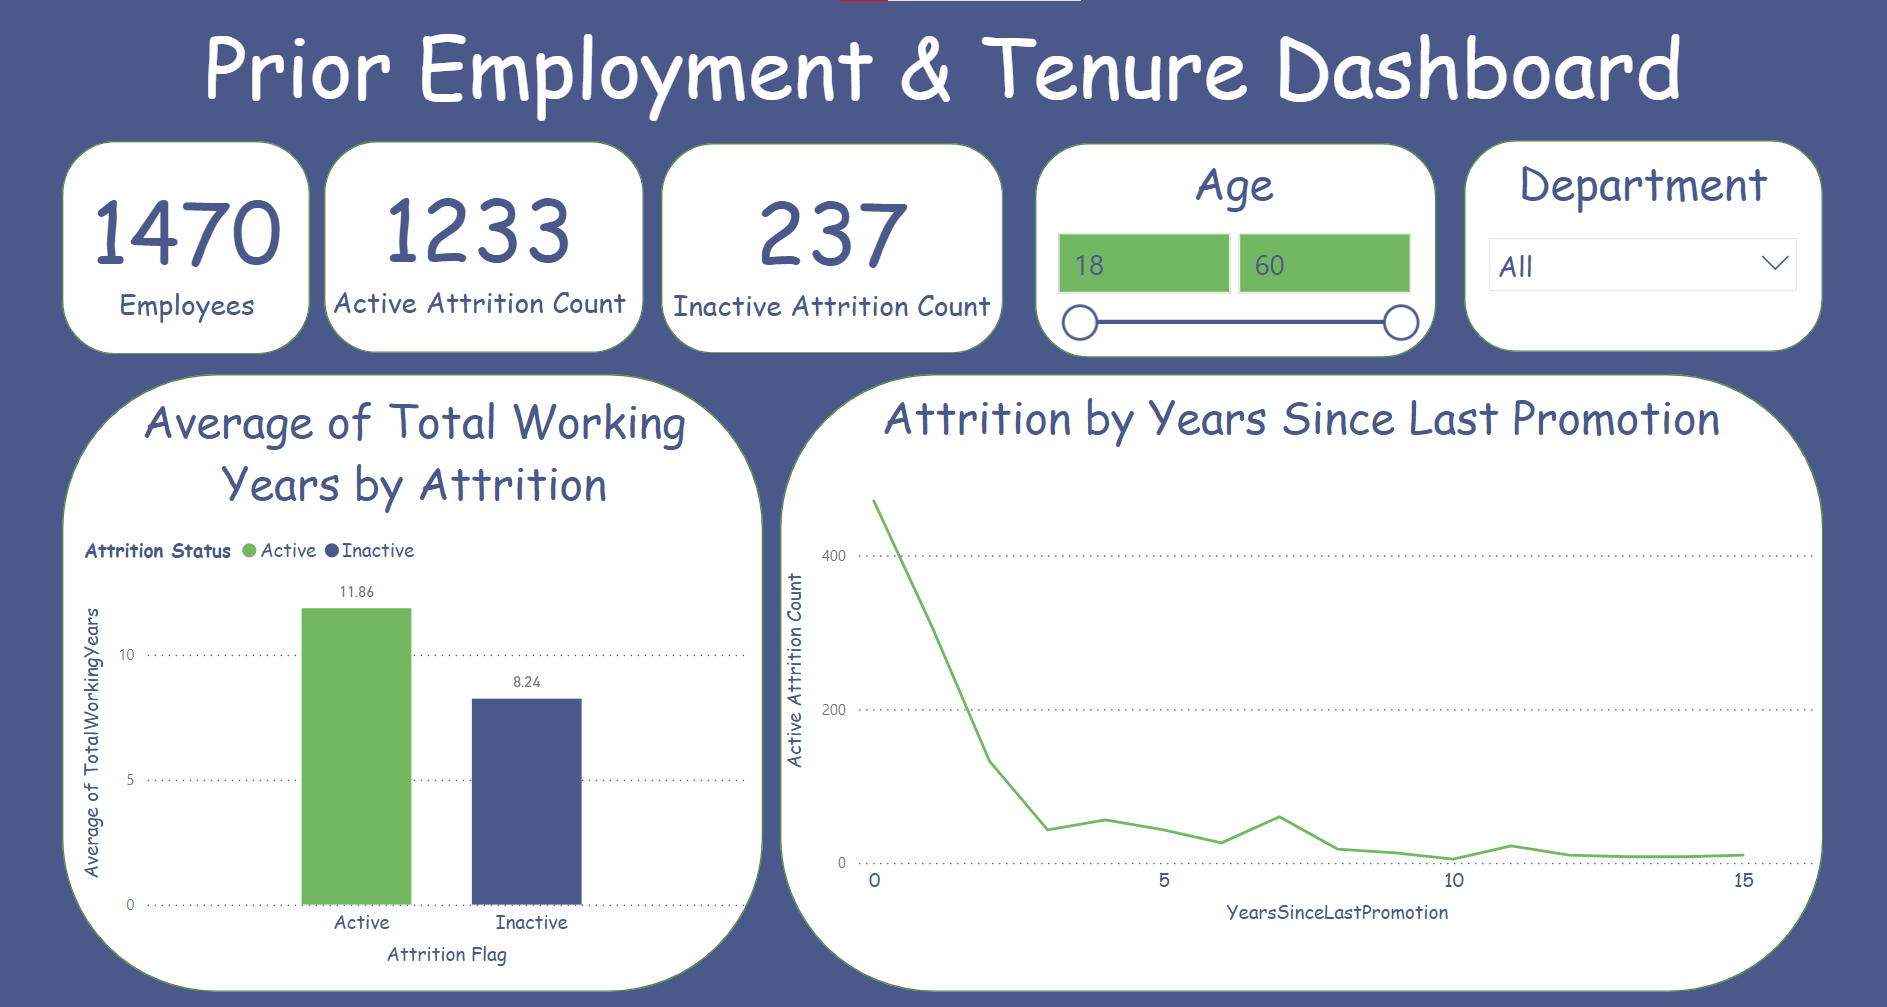

What the dashboard file says about the page in this screenshot:
{"tool":"powerbi","page":{"name":"Prior Employment & Tenure Dashboard","canvas":[1280,720],"ordinal":4},"visuals":[{"type":"group","id":"g1","title":"Group 3","box":[9.9,100.9,177.2,152.4],"z":0},{"type":"shape","box":[9.9,100.9,177.2,152.4],"z":0,"group":"g1"},{"type":"group","id":"g2","title":"Group 1","box":[9.9,267.2,500.8,441.4],"z":0,"group":"g10"},{"type":"group","id":"g3","title":"Group 2","box":[522.6,267.2,745.2,441.4],"z":0,"group":"g15"},{"type":"group","id":"g4","title":"Group 1","box":[522.6,267.2,745.2,441.4],"z":0,"group":"g3"},{"type":"group","id":"g5","title":"Group 4","box":[187.1,100.9,241.5,151.4],"z":1000},{"type":"textbox","box":[715.1,103,262.3,57.4],"z":1000,"group":"g9"},{"type":"textbox","box":[565.6,270,658.1,57.4],"z":1000,"group":"g3"},{"type":"textbox","box":[56.3,272.9,409.7,100],"z":1000,"group":"g10"},{"type":"group","id":"g6","title":"Group 5","box":[435.5,101.9,248.4,150.4],"z":2000},{"type":"textbox","box":[0,0,1279.7,112.8],"z":3000},{"type":"group","id":"g7","title":"Group 6","box":[704.7,101.9,286.6,153.4],"z":3000,"group":"g8"},{"type":"card","fields":{"Values":["CountNonNull(Demographic_Data.EmployeeID)"]},"box":[14.8,106.8,168.2,140.5],"z":3500,"group":"g1"},{"type":"group","id":"g8","title":"Group 16","box":[704.7,101.9,287,153.4],"z":4000},{"type":"group","id":"g9","title":"Group 7","box":[715.1,103,262.3,57.4],"z":4000,"group":"g8"},{"type":"group","id":"g10","title":"Group 2","box":[9.9,267.2,500.8,441.4],"z":4000,"group":"g13"},{"type":"group","id":"g11","title":"Group 14","box":[1011.5,100,256.3,151.4],"z":5000},{"type":"group","id":"g12","title":"Group 7","box":[9.9,267.2,500.8,441.4],"z":5000,"group":"g14"},{"type":"slicer","fields":{"Values":["Job_Data.Department"]},"box":[1019.4,160.3,240.5,60.4],"z":6000},{"type":"group","id":"g13","title":"Group 6","box":[9.9,267.2,500.8,441.4],"z":6000,"group":"g12"},{"type":"shape","box":[9.9,267.2,500.8,441.4],"z":6500,"group":"g2"},{"type":"shape","box":[522.6,267.2,745.2,441.4],"z":6500,"group":"g4"},{"type":"group","id":"g14","title":"Group 8","box":[9.9,267.2,500.8,441.4],"z":7000},{"type":"group","id":"g15","title":"Group 9","box":[522.6,267.2,745.2,441.4],"z":8000},{"type":"shape","box":[437.6,101.9,244.5,150.4],"z":8500,"group":"g6"},{"type":"card","fields":{"Values":["Attrition_Data.Inactive Attrition Count"]},"box":[435.5,101.9,248.4,150.4],"z":9000,"group":"g6"},{"type":"columnChart","fields":{"Category":["Attrition_Data.AttritionFlag"],"Series":["Attrition_Data.AttritionFlag"],"Y":["Avg(Tenure_Data.TotalWorkingYears)"]},"box":[20.3,373.1,481.6,322.6],"z":9001,"group":"g14"},{"type":"lineChart","fields":{"Category":["Tenure_Data.YearsSinceLastPromotion"],"Y":["Attrition_Data.Active Attrition Count"]},"box":[522.6,327.6,744.2,337.5],"z":9003,"group":"g15"},{"type":"shape","box":[704.7,101.9,286.6,153.4],"z":10000,"group":"g7"},{"type":"shape","box":[196.9,100.9,228.5,151.4],"z":10002,"group":"g5"},{"type":"slicer","fields":{"Values":["Demographic_Data.Age"]},"box":[708.2,156.3,278.9,90.4],"z":10500,"group":"g7"},{"type":"card","fields":{"Values":["Attrition_Data.Active Attrition Count"]},"box":[187.1,100.9,241.5,149.4],"z":10502,"group":"g5"},{"type":"shape","box":[1011.5,100,256.3,151.4],"z":11000,"group":"g16"},{"type":"group","id":"g16","title":"Group 10","box":[1011.5,100,256.3,151.4],"z":13000,"group":"g11"},{"type":"textbox","box":[1019.4,102.9,240.5,71.3],"z":13000,"group":"g16"}]}

Visuals, with their boxes on the page's 1280x720 design canvas (x1, y1, x2, y2). These are canvas units, not pixel positions in the 1887x1007 screenshot, which may show the page scaled, cropped or inside an application window:
"Group 3" group: BBox(10, 101, 187, 253)
shape: BBox(10, 101, 187, 253)
"Group 1" group: BBox(10, 267, 511, 709)
"Group 2" group: BBox(523, 267, 1268, 709)
"Group 1" group: BBox(523, 267, 1268, 709)
"Group 4" group: BBox(187, 101, 429, 252)
textbox: BBox(715, 103, 977, 160)
textbox: BBox(566, 270, 1224, 327)
textbox: BBox(56, 273, 466, 373)
"Group 5" group: BBox(436, 102, 684, 252)
textbox: BBox(0, 0, 1280, 113)
"Group 6" group: BBox(705, 102, 991, 255)
card - CountNonNull(Demographic_Data.EmployeeID): BBox(15, 107, 183, 247)
"Group 16" group: BBox(705, 102, 992, 255)
"Group 7" group: BBox(715, 103, 977, 160)
"Group 2" group: BBox(10, 267, 511, 709)
"Group 14" group: BBox(1012, 100, 1268, 251)
"Group 7" group: BBox(10, 267, 511, 709)
slicer - Job_Data.Department: BBox(1019, 160, 1260, 221)
"Group 6" group: BBox(10, 267, 511, 709)
shape: BBox(10, 267, 511, 709)
shape: BBox(523, 267, 1268, 709)
"Group 8" group: BBox(10, 267, 511, 709)
"Group 9" group: BBox(523, 267, 1268, 709)
shape: BBox(438, 102, 682, 252)
card - Attrition_Data.Inactive Attrition Count: BBox(436, 102, 684, 252)
columnChart - Attrition_Data.AttritionFlag x Attrition_Data.AttritionFlag: BBox(20, 373, 502, 696)
lineChart - Tenure_Data.YearsSinceLastPromotion x Attrition_Data.Active Attrition Count: BBox(523, 328, 1267, 665)
shape: BBox(705, 102, 991, 255)
shape: BBox(197, 101, 425, 252)
slicer - Demographic_Data.Age: BBox(708, 156, 987, 247)
card - Attrition_Data.Active Attrition Count: BBox(187, 101, 429, 250)
shape: BBox(1012, 100, 1268, 251)
"Group 10" group: BBox(1012, 100, 1268, 251)
textbox: BBox(1019, 103, 1260, 174)
